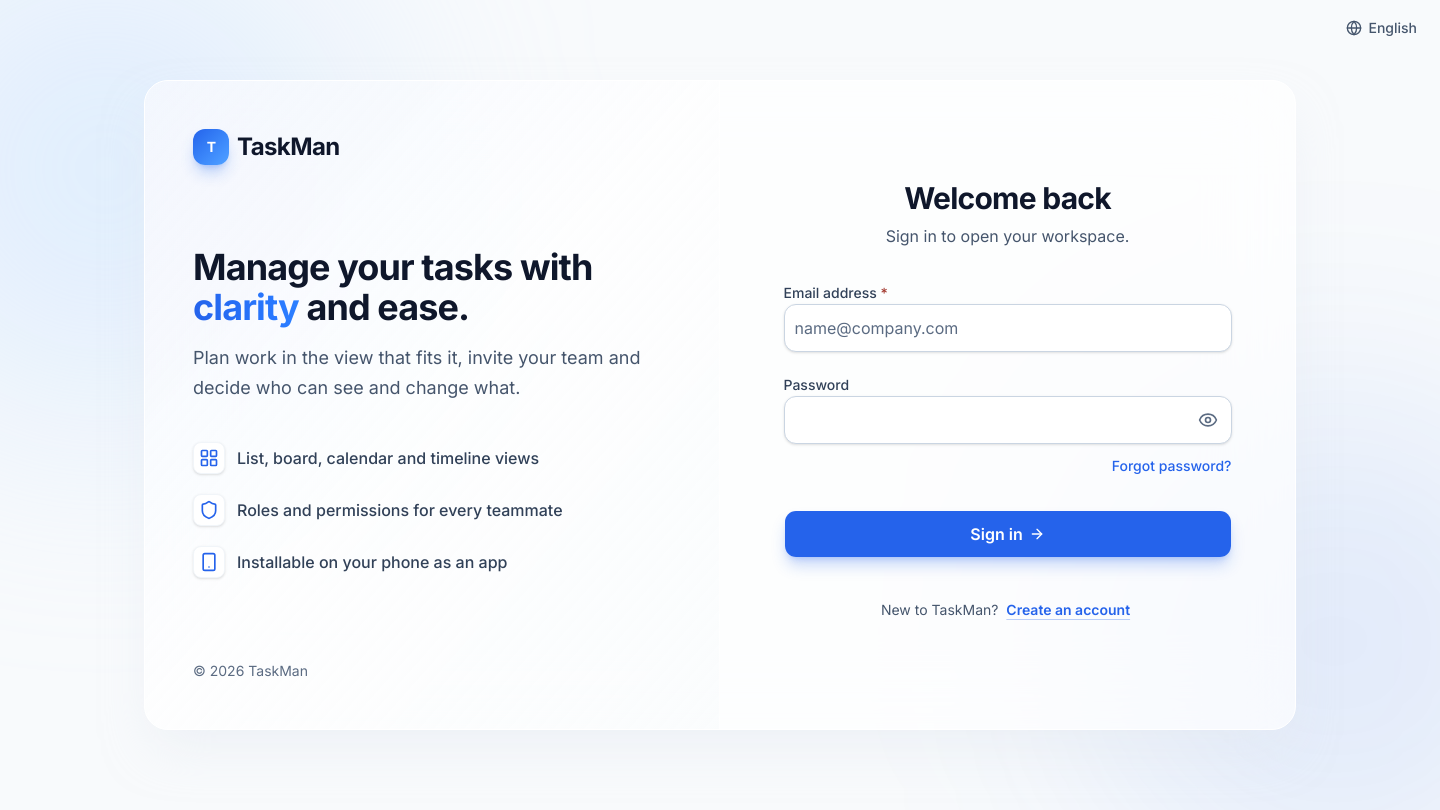
Test: AuthPage: second step › does not submit an incomplete code
This screenshot has width=1440, height=810.
In the field labelled "Email address *": x=1008, y=328 [784,304,1232,352], type "ada@example.com"
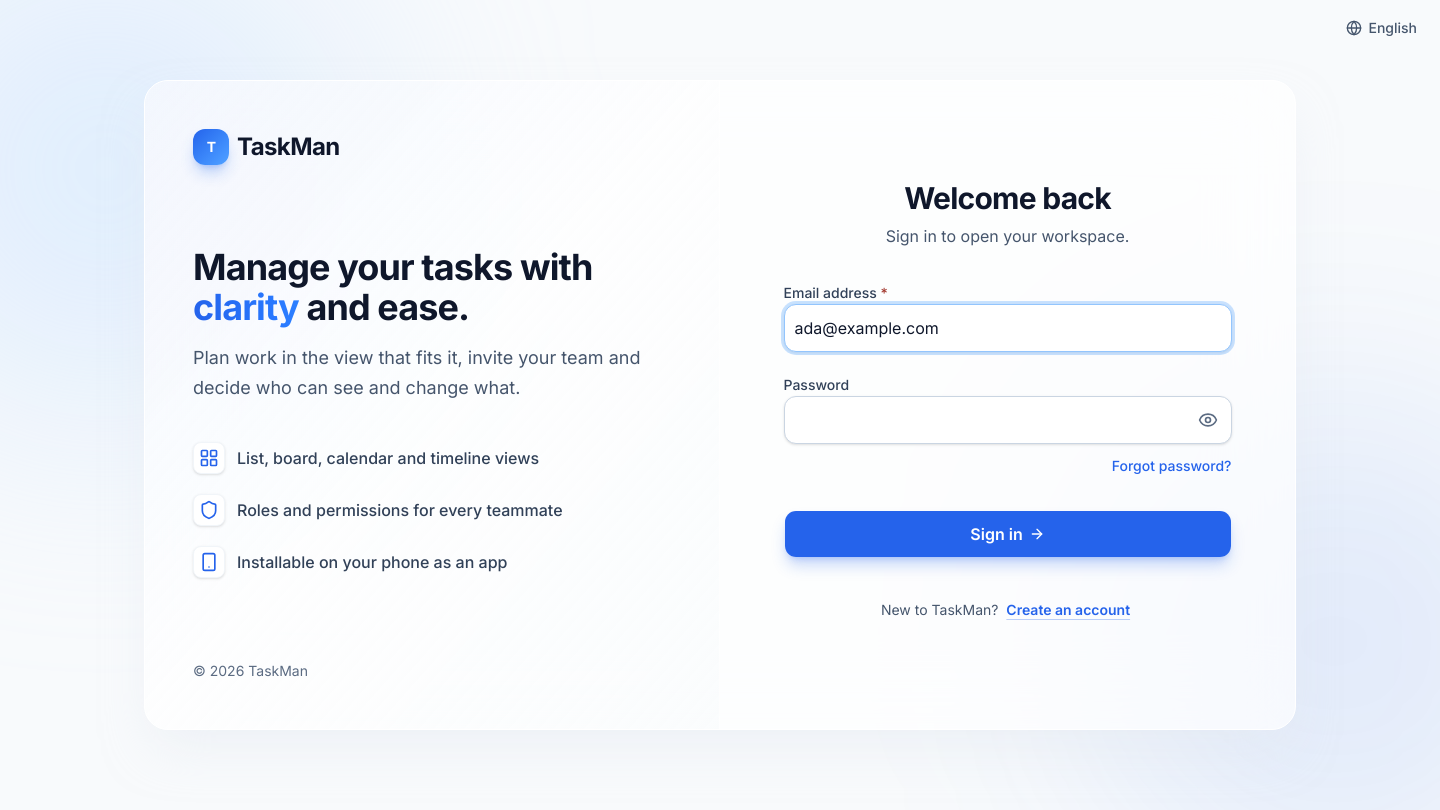
In the password field labelled "Password": x=1008, y=420 [784,396,1232,444], type "analytical-engine"
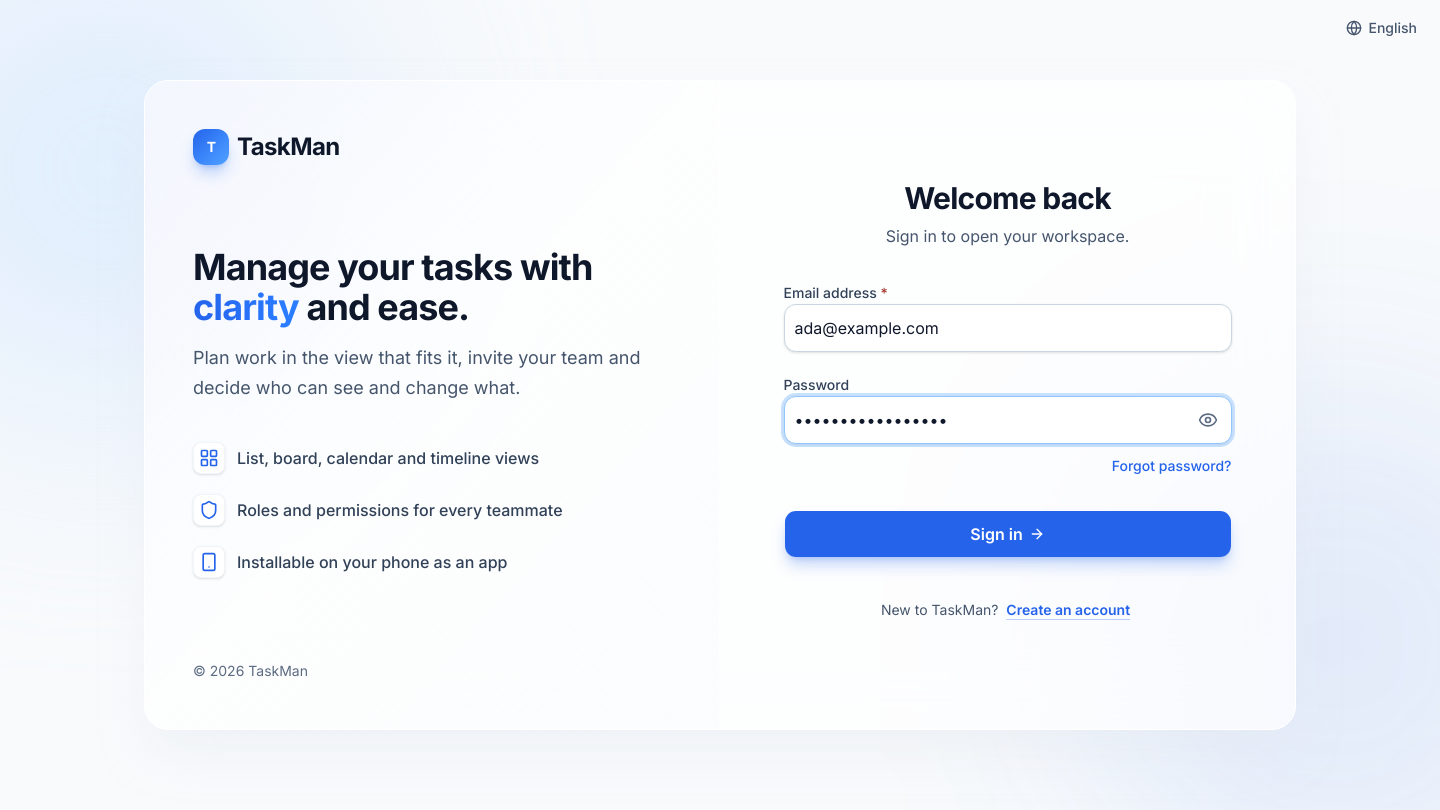
Click the button "Sign in": x=1008, y=534 [784,510,1232,558]
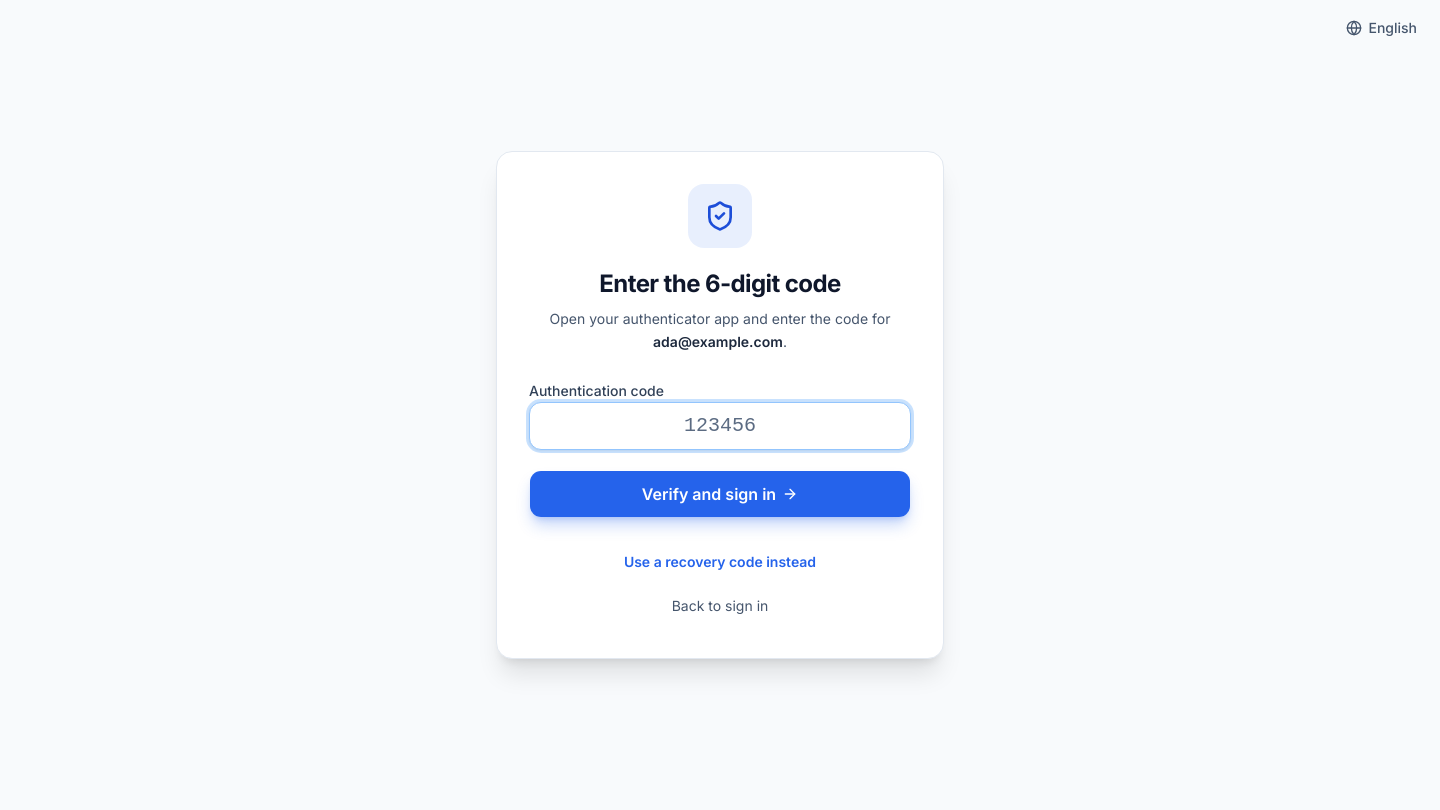
In the field labelled "Authentication code": x=720, y=426 [529,402,911,450], type "12"
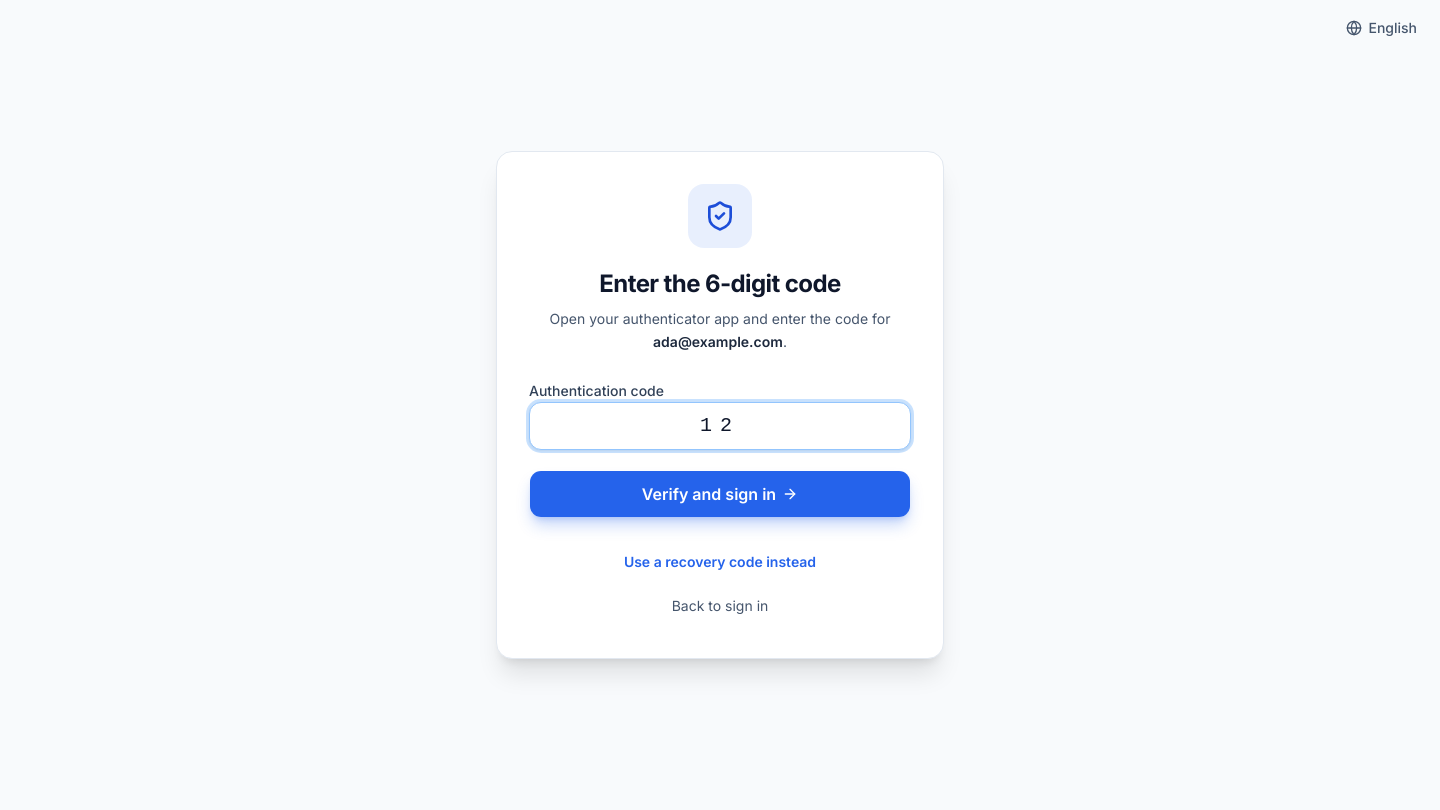
Click the button "Verify and sign in": x=720, y=494 [529,470,911,518]
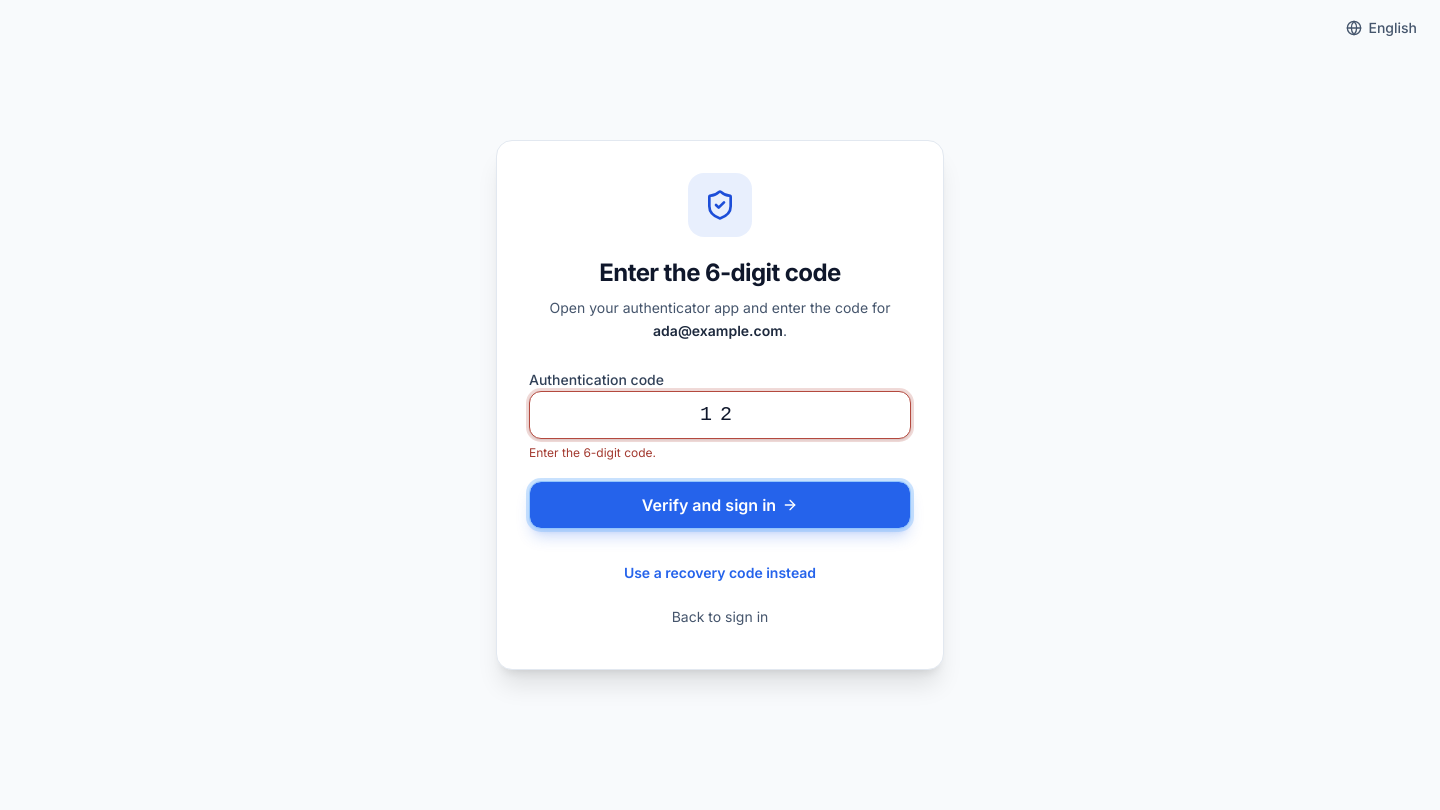
Expected: the text "Enter the 6-digit code." is shown, [529,445,656,460]
